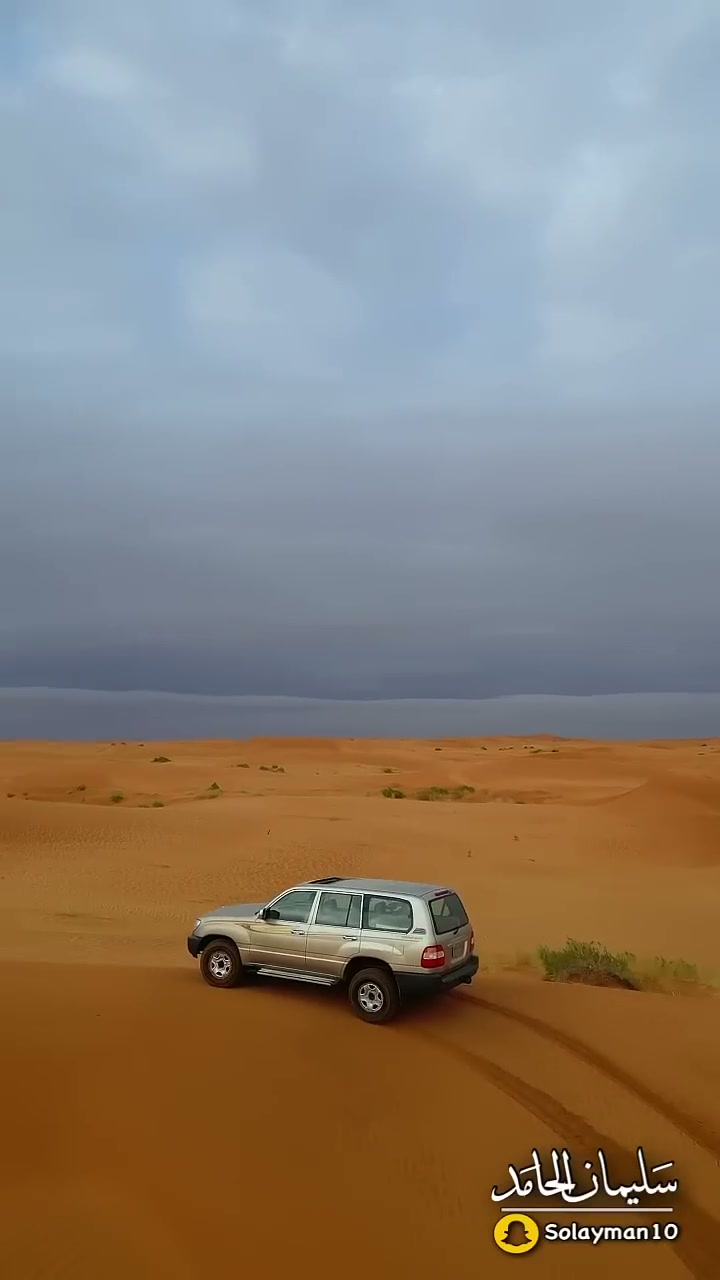vehicle_track: (453, 993, 719, 1160), (408, 1028, 635, 1168)
